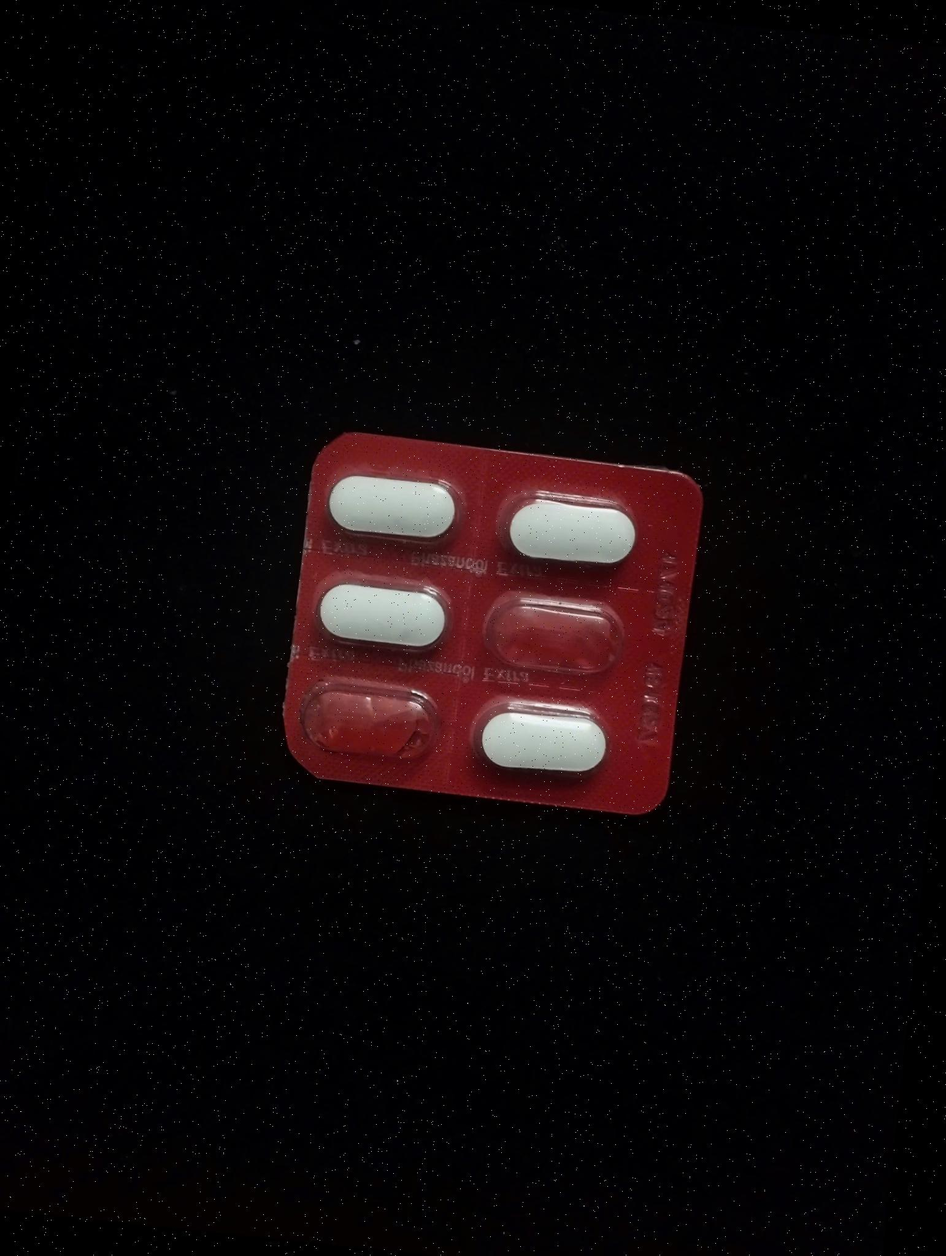Empty: (288, 669, 444, 770), (478, 597, 622, 672)
Full: (501, 480, 650, 584), (311, 460, 464, 551), (470, 694, 615, 786), (312, 578, 459, 655)
